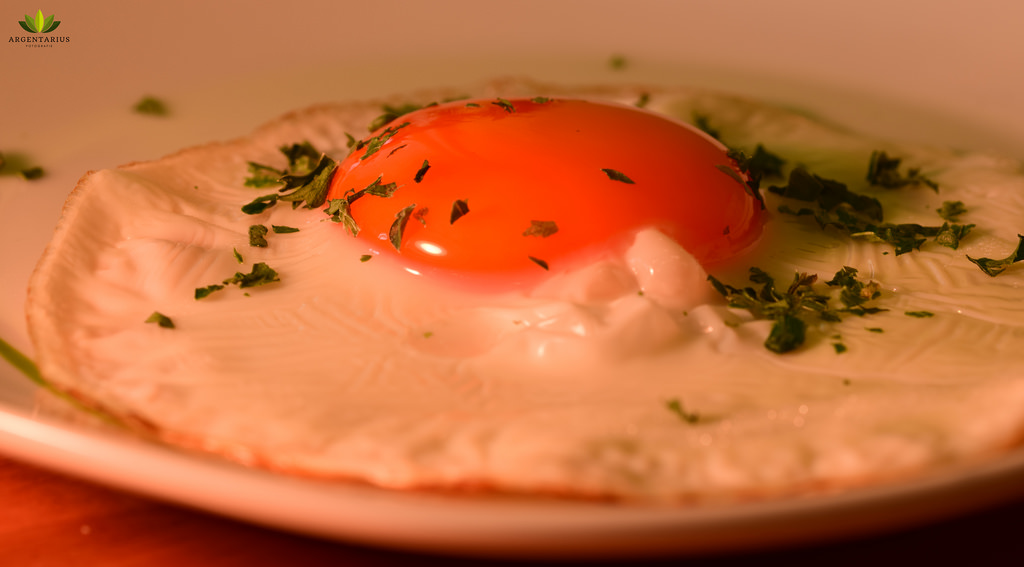fried egg: (86, 90, 950, 462)
